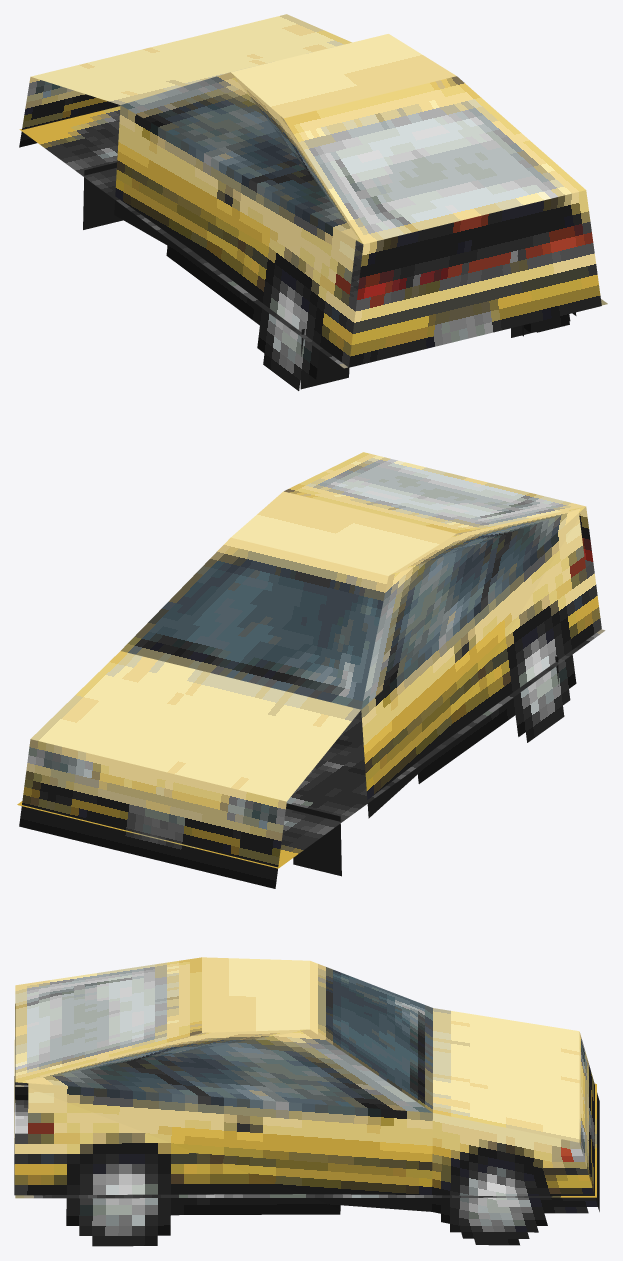
Rendered from car-crx-plt3.glb.
3 views of the same model, one above another, from view 1: azimuth 30°, elevation 25°; view 2: azimuth 150°, elevation 25°; view 3: azimuth 270°, elevation 25° (orthographic). The views are drawn at different scales.
Visible parts, largest first — view 1: car-crx-plt3; view 2: car-crx-plt3; view 3: car-crx-plt3.
Part boxes in pixels (x1,y1,x2,y2): car-crx-plt3: (19,14,607,390); car-crx-plt3: (17,452,605,888); car-crx-plt3: (14,957,599,1246).
Bounding box in the file's own units: 1.61 × 1.26 × 3.48.
13 materials, 13 textured.
